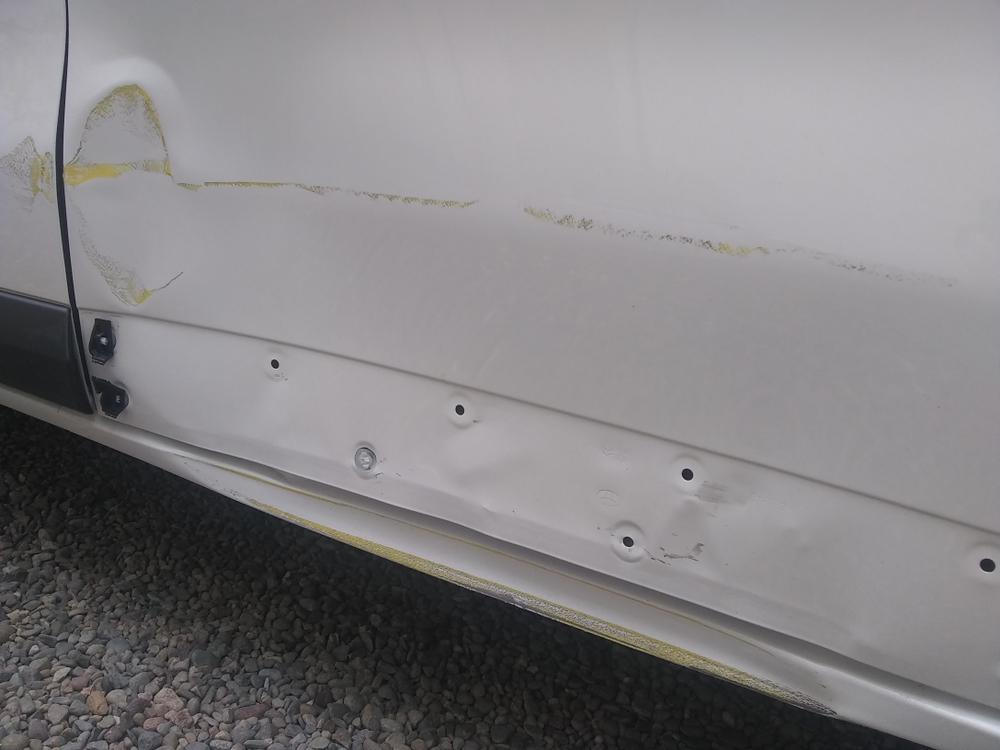dent: (63, 87, 1000, 695)
scratch: (0, 135, 53, 204)
